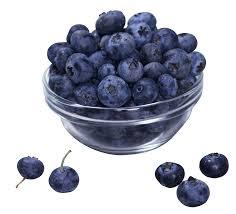bluebarry: (0, 0, 235, 213), (41, 9, 206, 154), (154, 151, 229, 207), (14, 149, 79, 193), (48, 149, 79, 193), (176, 175, 210, 207), (14, 155, 44, 188), (199, 151, 228, 178), (154, 161, 184, 187)
